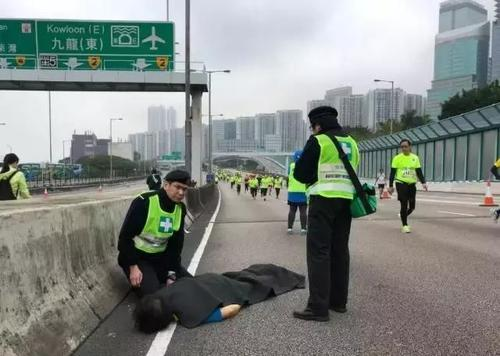10+: (3, 100, 500, 338)
down: (124, 249, 315, 340)
